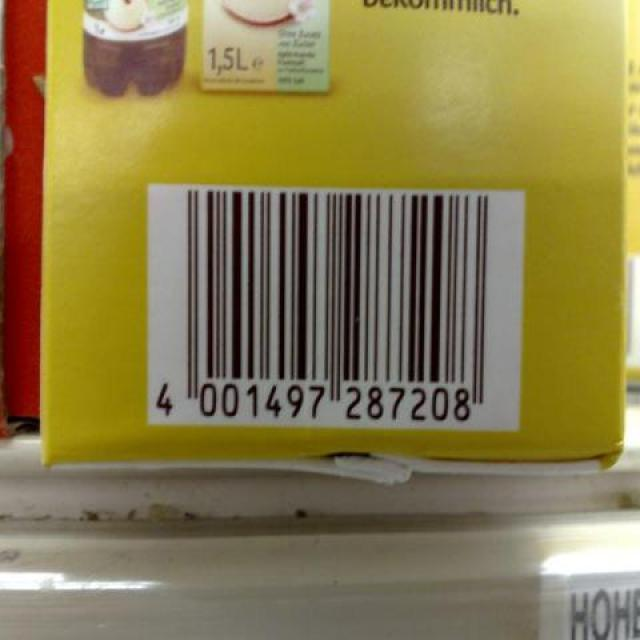Barcode: (148, 183, 524, 432)
